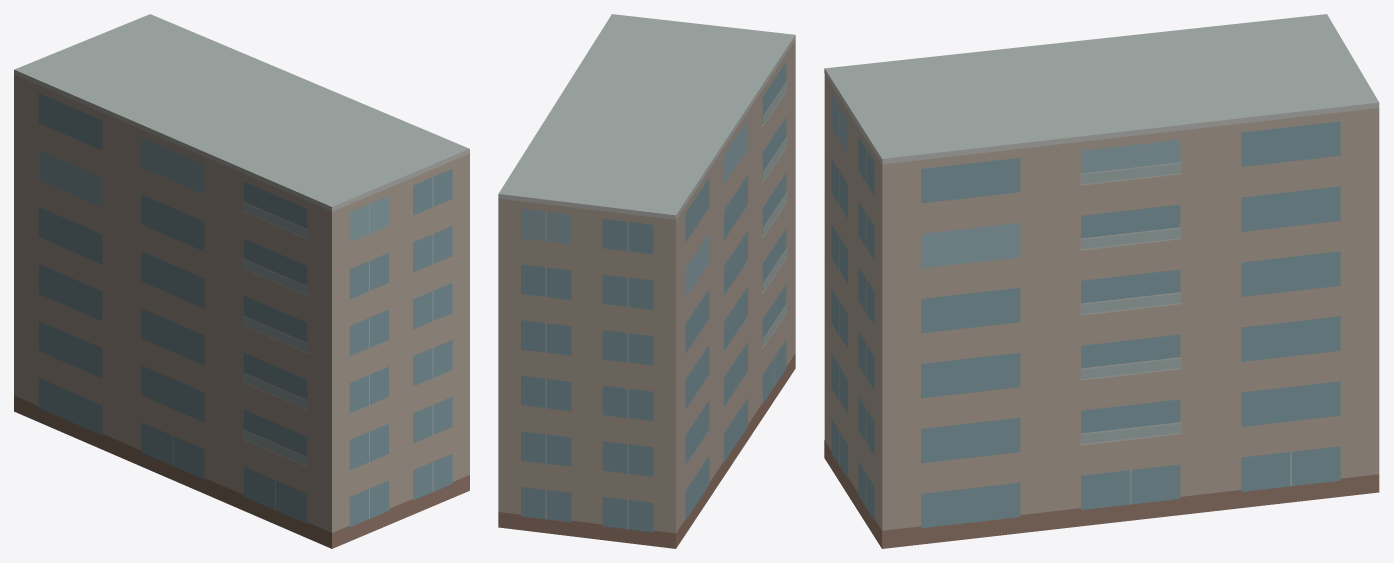
File: survey-upis-32653642.glb
3 views of the same model, side by side, from view 1: azimuth 30°, elevation 25°; view 2: azimuth 150°, elevation 25°; view 3: azimuth 270°, elevation 25° (orthographic). The views are drawn at different scales.
Parts seen in each view (by area): view 1: survey-upis-32653642.tmp; view 2: survey-upis-32653642.tmp; view 3: survey-upis-32653642.tmp.
Boxes of the visible parts, <box> form: survey-upis-32653642.tmp: <box>14,14,469,548</box>; survey-upis-32653642.tmp: <box>498,14,795,548</box>; survey-upis-32653642.tmp: <box>824,14,1379,548</box>.
Bounding box in the file's own units: 14.05 × 17.6 × 22.71.
